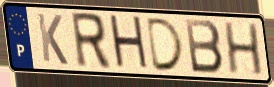B: (183, 17, 225, 76)
D: (145, 16, 187, 73)
H: (107, 13, 152, 73), (222, 21, 265, 78)
K: (35, 11, 70, 67)
R: (69, 11, 114, 72)
